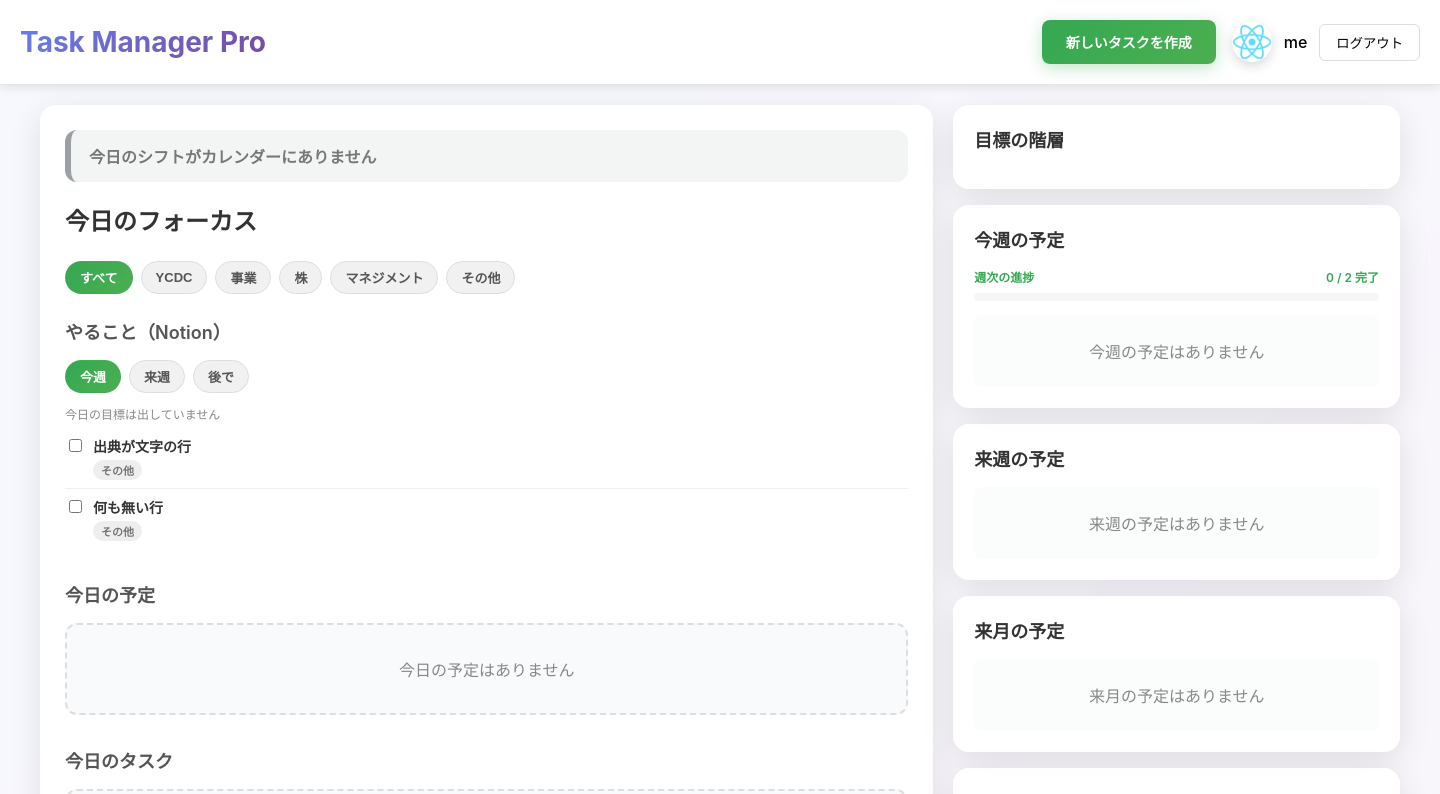
Test case: a source that is not a web address is shown as plain text, and a row with neither says so
Expected: the text "出典が文字の行" is shown, [93, 438, 191, 455]
Click the button "出典が文字の行" at (142,446), box [93, 436, 908, 456]
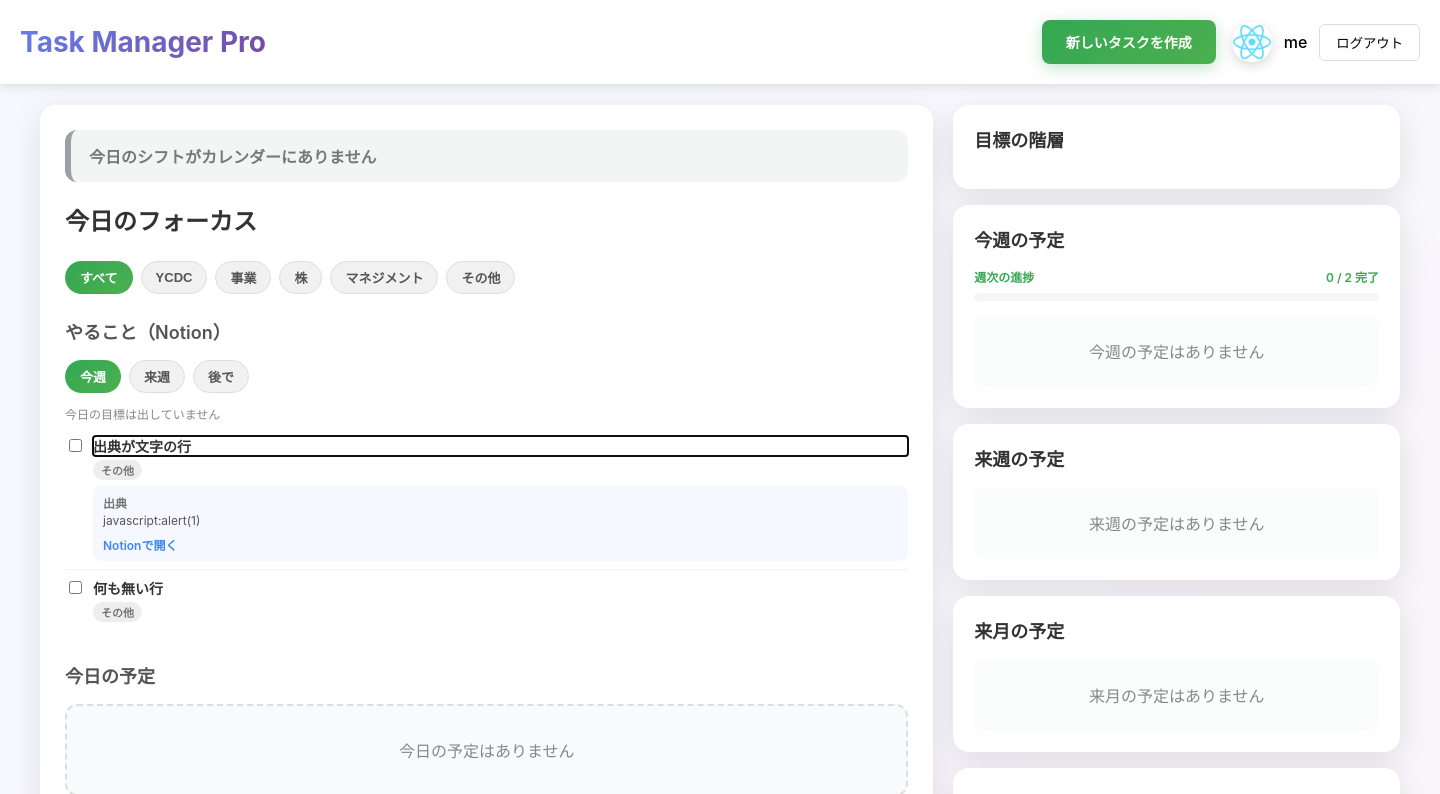
Expected: the text "javascript:alert(1)" is shown, [103, 513, 200, 528]
Click the button "何も無い行" at (128,588), box [93, 578, 908, 598]
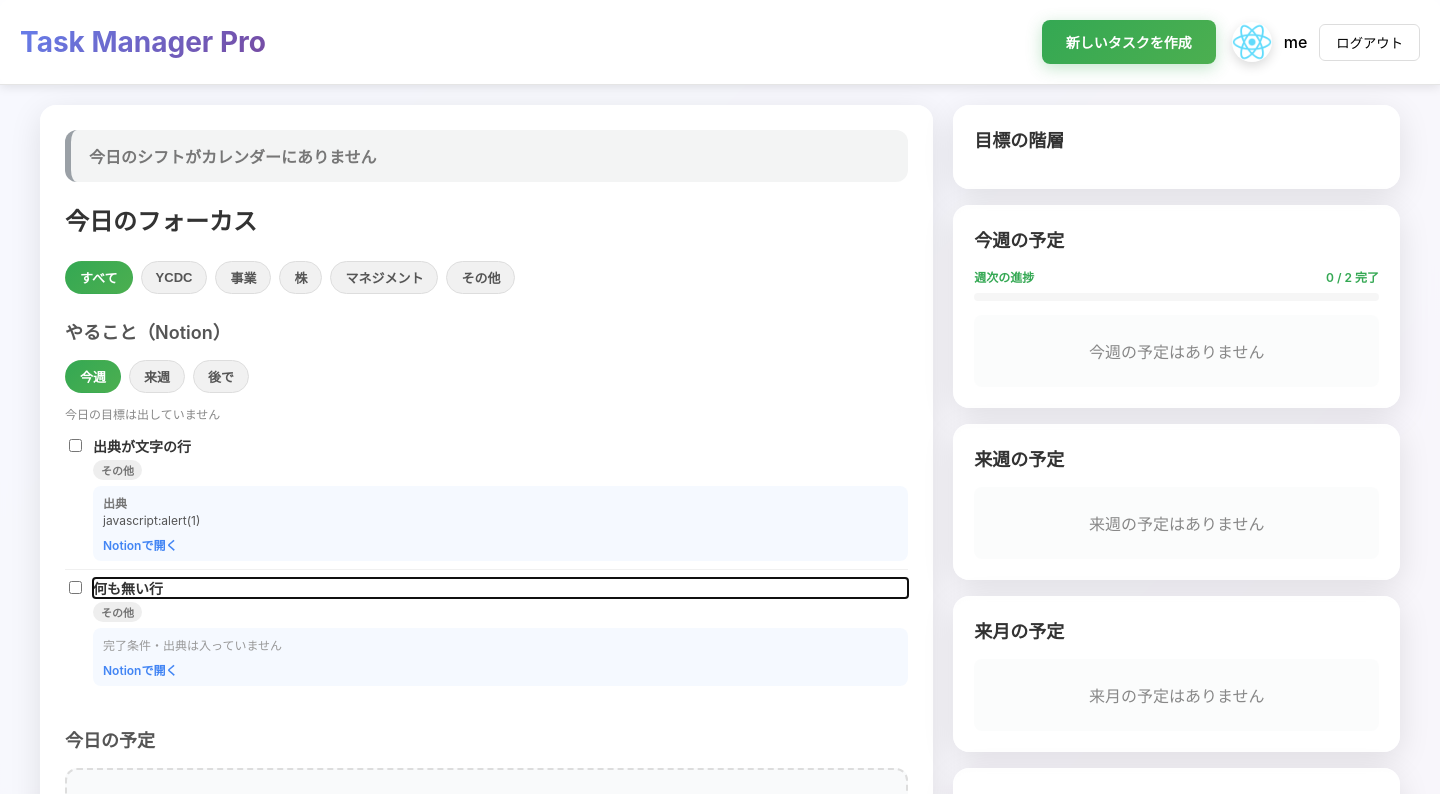
Expected: the text "完了条件・出典は入っていません" is shown, [103, 638, 282, 653]
Expected: the number of links "Notionで開く" is 2, [103, 536, 178, 553]; [103, 661, 178, 678]
